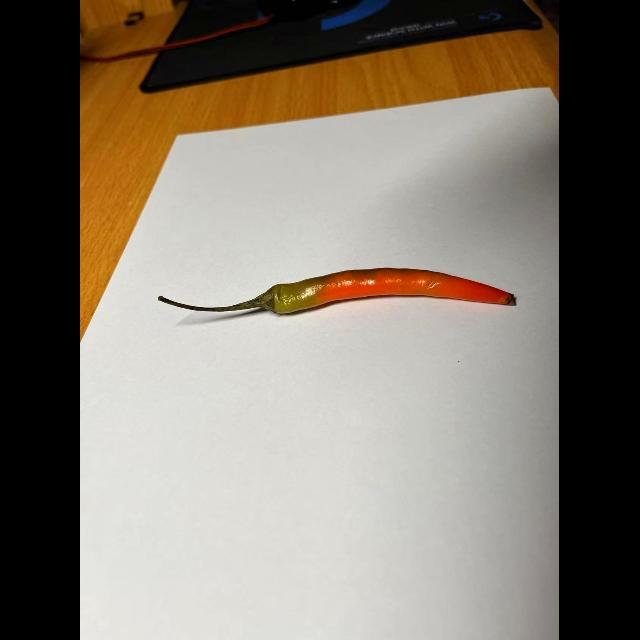chili_pepper: (149, 260, 530, 328)
